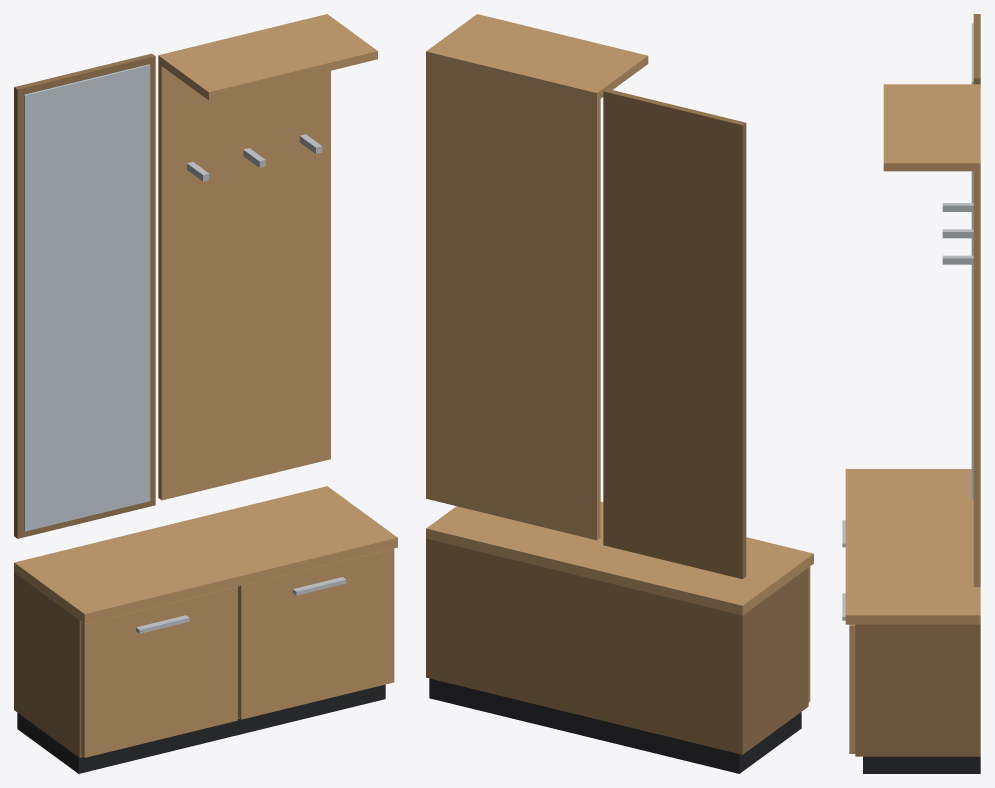
File: vestiyer-1000-mese.glb
3 views of the same model, side by side, from view 1: azimuth 30°, elevation 25°; view 2: azimuth 150°, elevation 25°; view 3: azimuth 270°, elevation 25° (orthographic). The views are drawn at different scales.
Visible parts, largest first — view 1: mobilya; view 2: mobilya; view 3: mobilya.
Boxes of the visible parts, x1=… form: mobilya: x1=14, y1=14, x2=397, y2=773; mobilya: x1=426, y1=14, x2=813, y2=773; mobilya: x1=842, y1=14, x2=980, y2=773.
Size of the model in its own units: 1 by 1.96 by 0.4.
